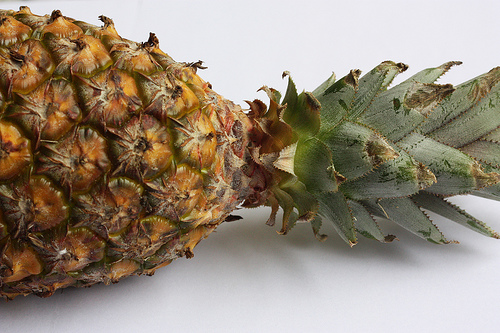pineapple: (0, 3, 499, 303)
